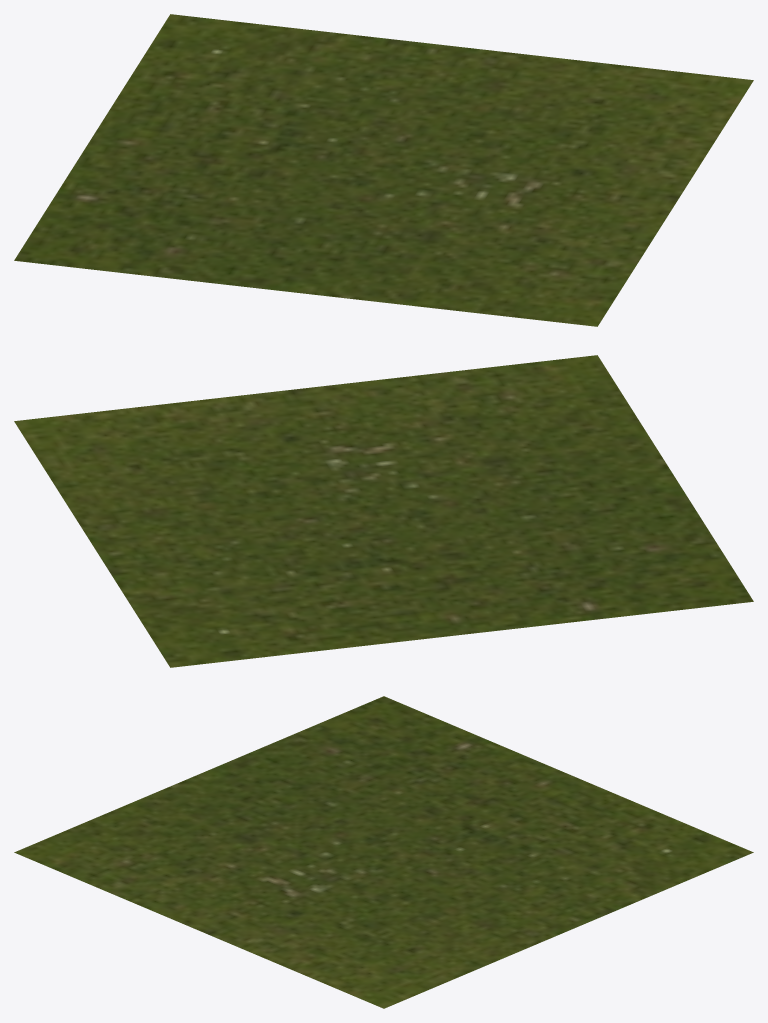
File: w_leisure_garden.glb
3 renders of one model, top to bottom at view 1: azimuth 30°, elevation 25°; view 2: azimuth 150°, elevation 25°; view 3: azimuth 270°, elevation 25°, orthographic. The views are drawn at different scales.
Visible parts, largest first — view 1: Plane; view 2: Plane; view 3: Plane.
Boxes of the visible parts, box(x1,y1,x2,y2) form: Plane: box(14, 14, 753, 326); Plane: box(14, 355, 753, 667); Plane: box(14, 696, 753, 1008).
Bounding box in the file's own units: 2.83 × 0 × 2.83.
Materials: 1 (1 with a texture image).
